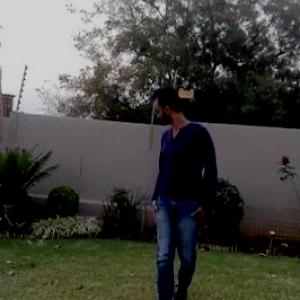follow: (138, 80, 219, 299)
